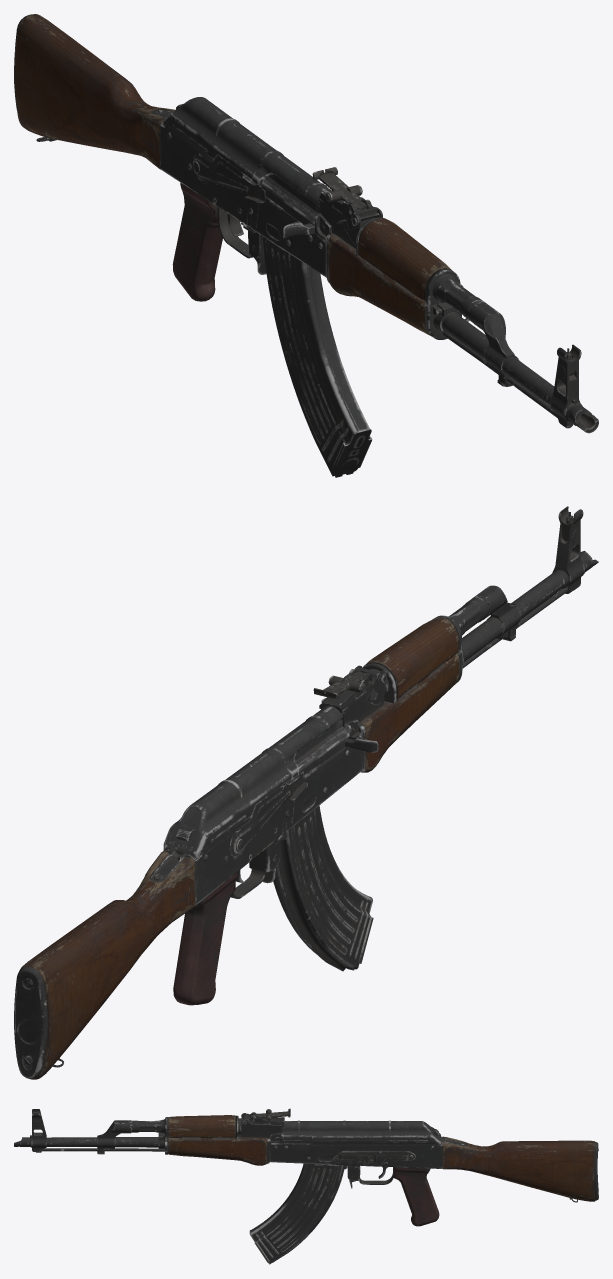
The picture shows the model from 3 angles, top to bottom: view 1: azimuth 30°, elevation 25°; view 2: azimuth 150°, elevation 25°; view 3: azimuth 270°, elevation 25°; orthographic projection. The views are drawn at different scales.
Parts seen in each view (by area): view 1: AK47_CS2; view 2: AK47_CS2; view 3: AK47_CS2.
Part boxes in pixels (x1,y1,x2,y2): AK47_CS2: [14, 14, 598, 477]; AK47_CS2: [14, 506, 598, 1079]; AK47_CS2: [14, 1108, 598, 1264].
Size of the model in its own units: 7.14 by 27.19 by 94.71.
Materials: 1 (1 with a texture image).
